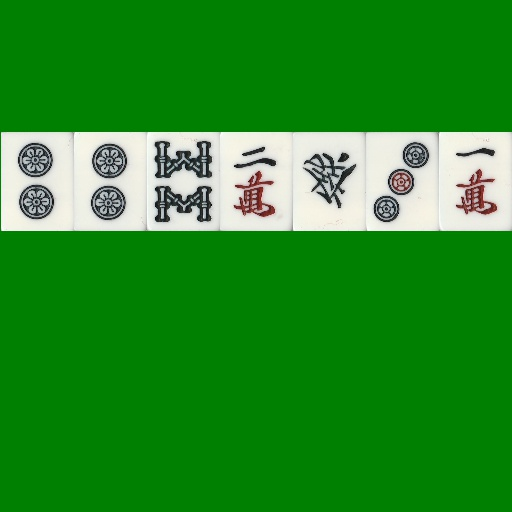1m: (439, 132, 512, 231)
2m: (220, 132, 293, 231)
2p: (1, 132, 74, 231), (74, 132, 147, 231)
3p: (366, 132, 439, 231)
8s: (147, 132, 220, 231)
hatsu: (293, 132, 366, 231)
